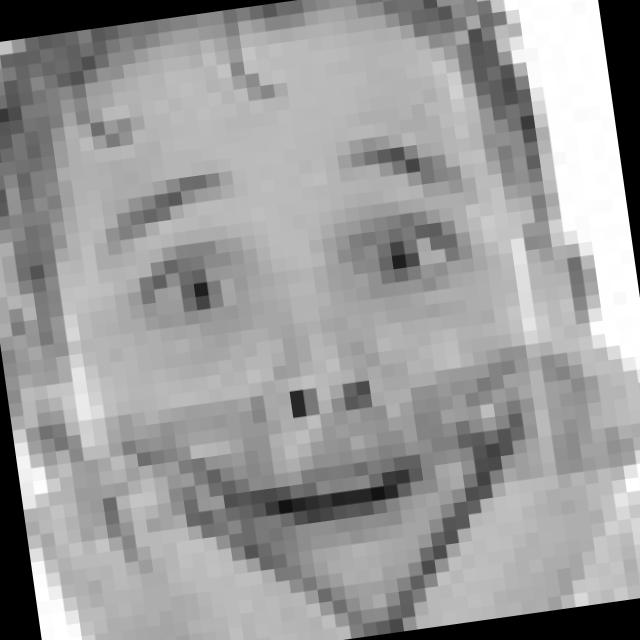fear: (85, 120, 530, 573)
